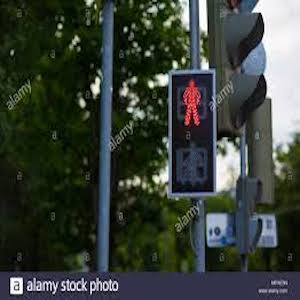red: (175, 80, 208, 130)
